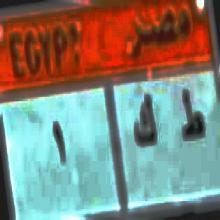1: (50, 117, 73, 177)
Taa: (178, 88, 207, 150)
kaaf: (130, 86, 162, 157)
